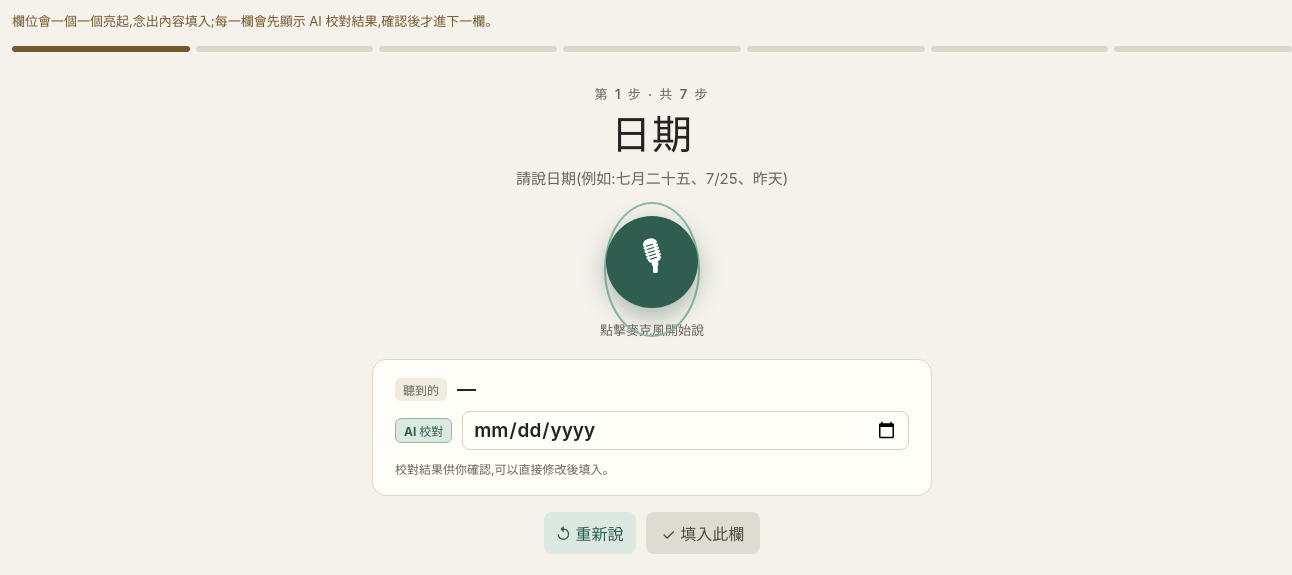
ModeBPanel › applies the last interim transcript when the session ends without a final result
What coordinates should you click on to do the following:
click the button named "用說的"
I would click on:
 (652, 262)
Its box is [606, 216, 698, 308].
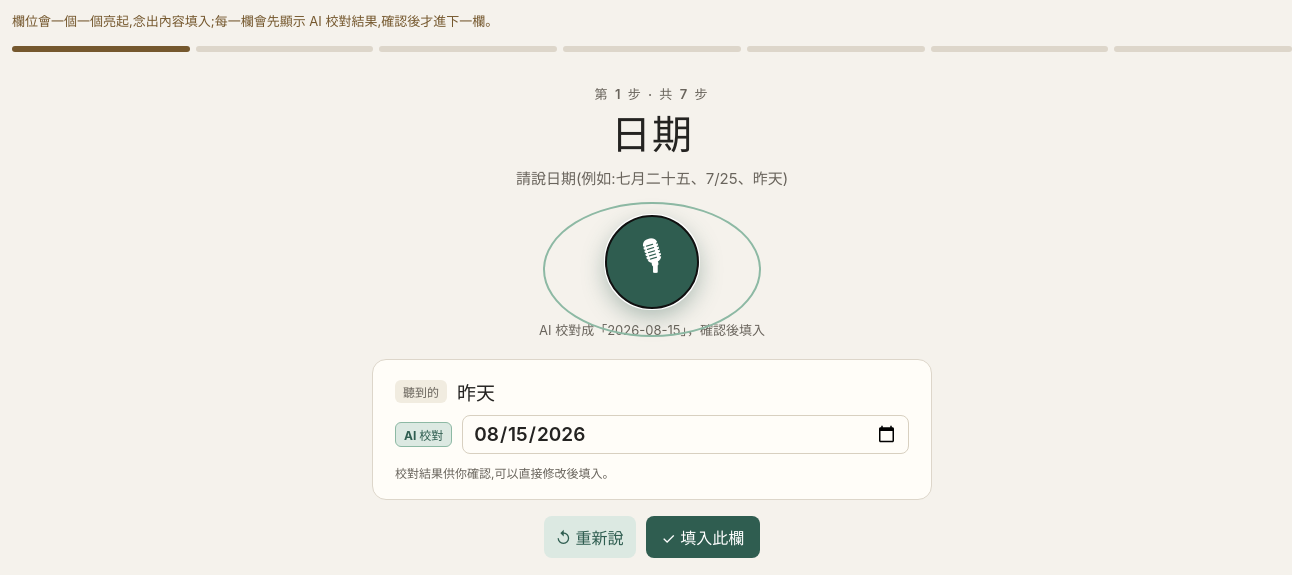
Expected: the text "昨天" is shown, [457, 378, 495, 405]
